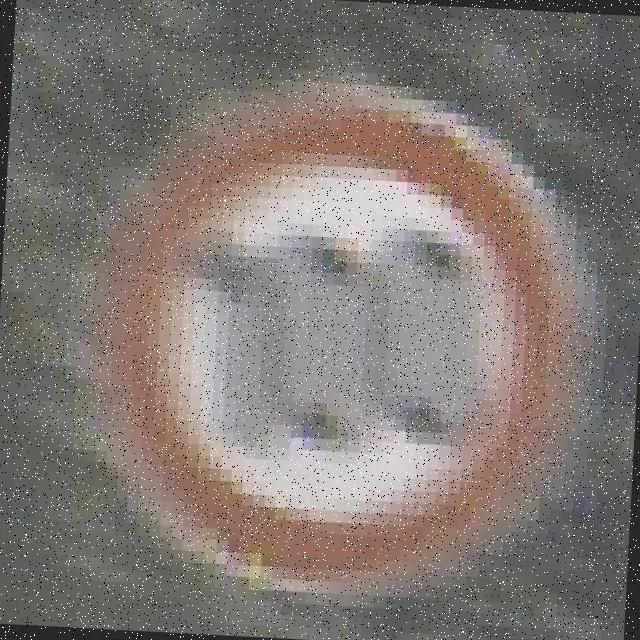Ograniczenie predkosci do 100: (91, 84, 588, 604)
